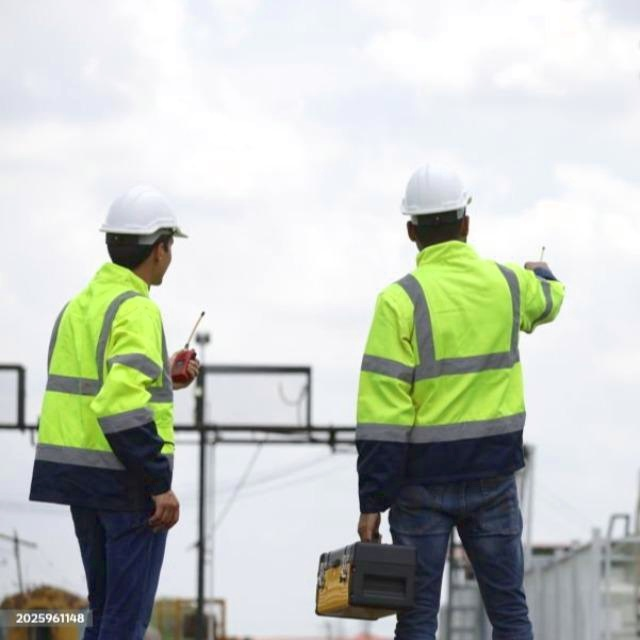Con_Casco: (103, 188, 187, 280)
Con_Chaleco: (369, 249, 530, 469), (34, 287, 178, 505)
